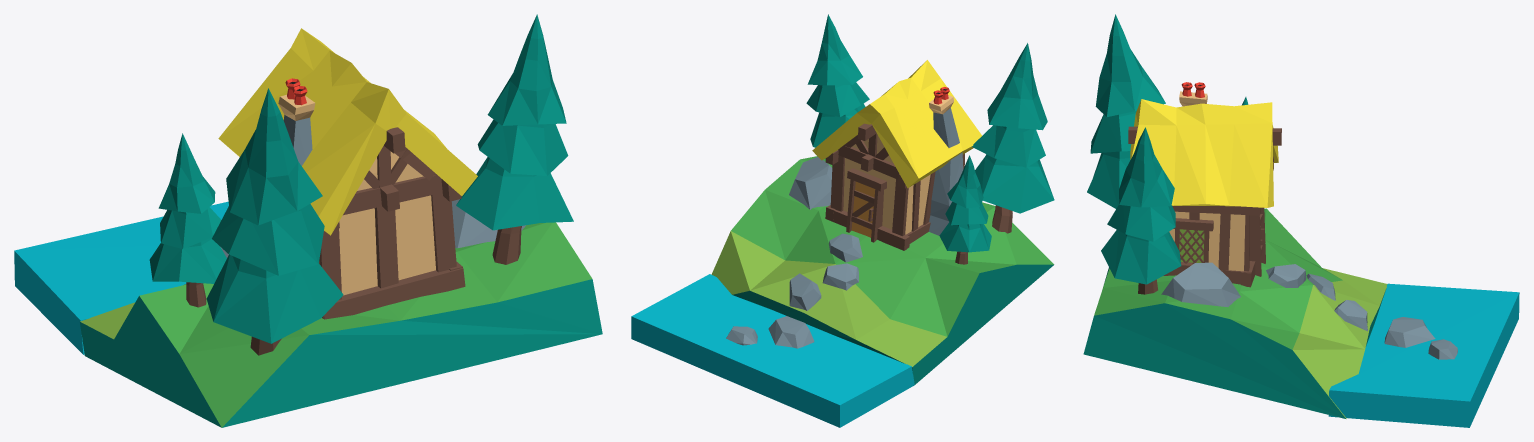
Rendered from scene_4lfQ2SphqR.glb.
3 views of the same model, side by side, from view 1: azimuth 30°, elevation 25°; view 2: azimuth 150°, elevation 25°; view 3: azimuth 270°, elevation 25° (orthographic). The views are drawn at different scales.
Parts seen in each view (by area): view 1: Node; view 2: Node; view 3: Node.
Boxes of the visible parts, x1,y1,x2,y2 form: Node: (14,14,602,427); Node: (631,14,1054,427); Node: (1083,14,1519,427).
Bounding box in the file's own units: 0.7333 × 0.6653 × 0.8825.
